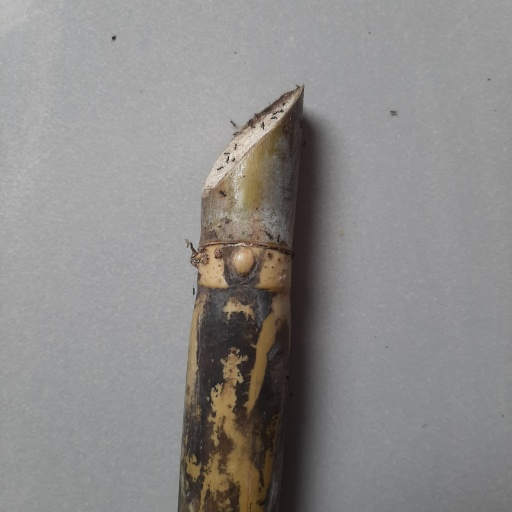Bud: (229, 246, 257, 279)
